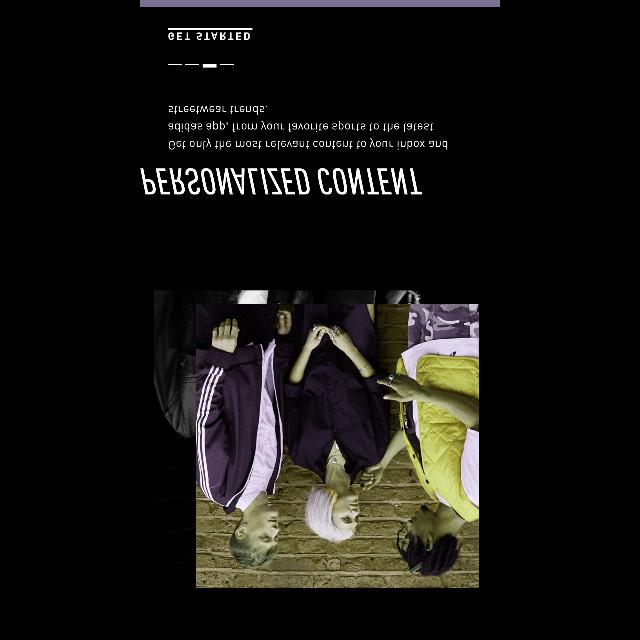image: (154, 290, 480, 588)
pageindicator: (168, 64, 234, 68)
text: (168, 106, 448, 150), (140, 168, 422, 194), (168, 28, 252, 40)
